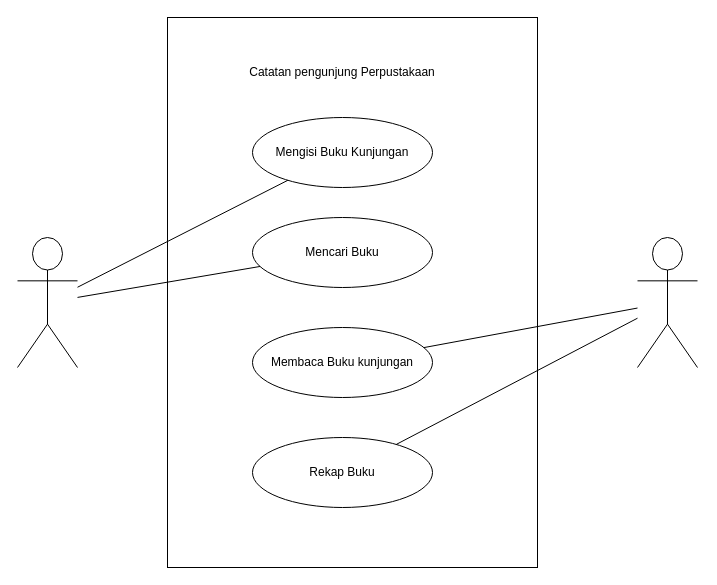
Some shapes in this 717 by 585 pixel diagram are drawn without their labels. Each missing label, with the box of its shape:
pustakawan: (636, 236, 698, 368)
User: (16, 236, 78, 368)
